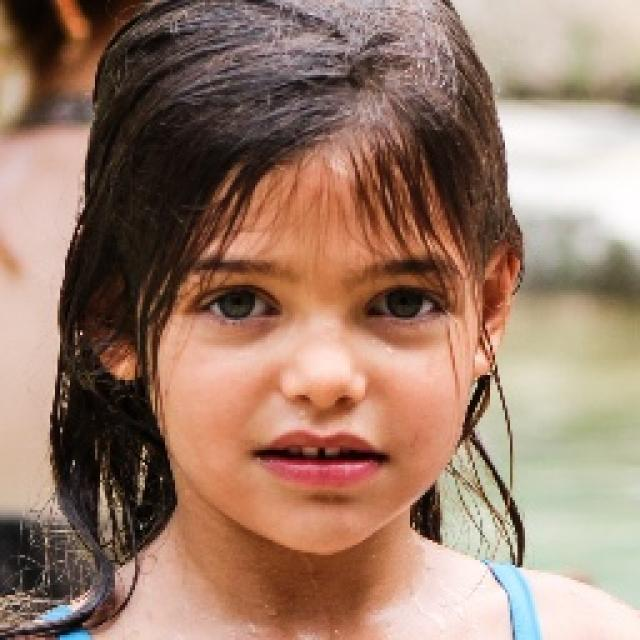earlobe: (101, 330, 145, 382), (474, 336, 496, 377)
eye: (364, 288, 438, 322), (207, 288, 275, 322)
nose: (282, 389, 366, 426)
wholeear: (80, 265, 145, 382), (473, 234, 523, 377)
